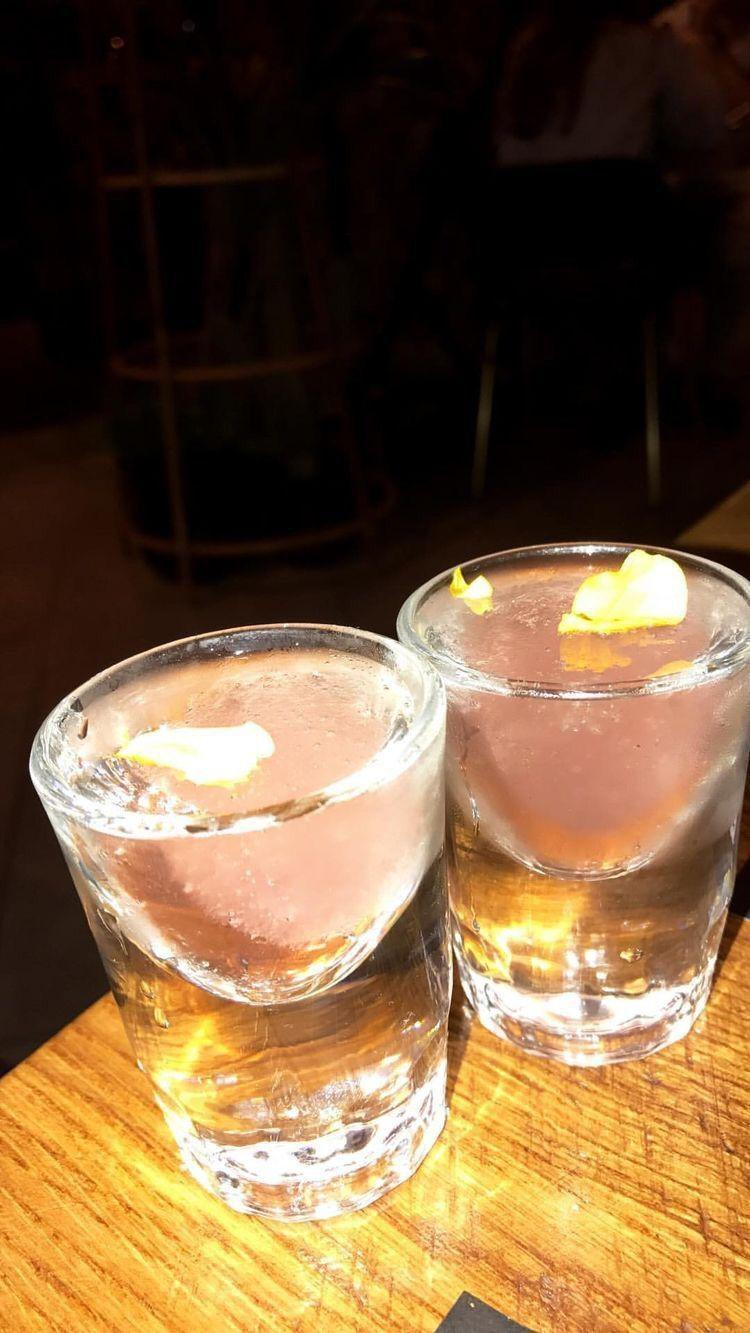glass-normal: (27, 612, 457, 1222), (395, 536, 749, 1069)
